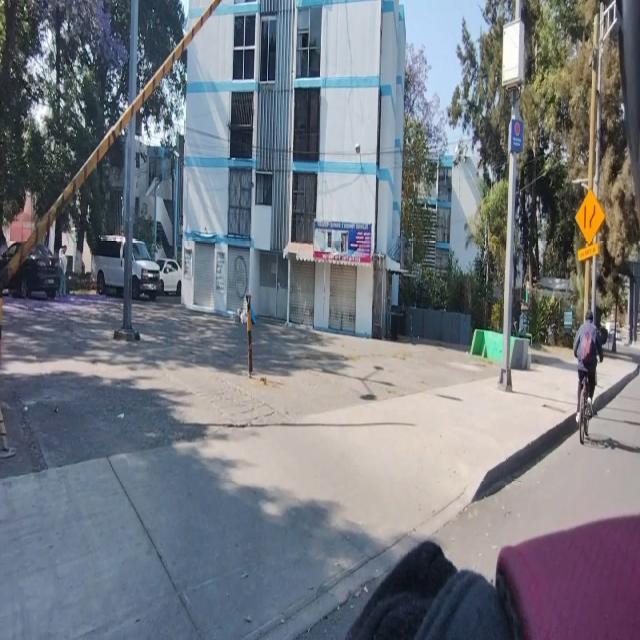adult: (573, 309, 603, 422), (58, 245, 68, 295)
